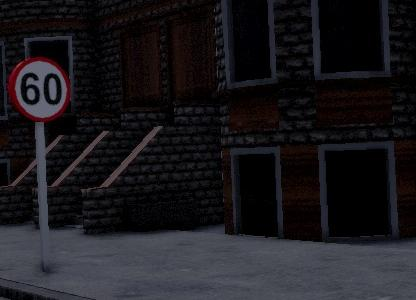Speed_60: (7, 57, 75, 125)
